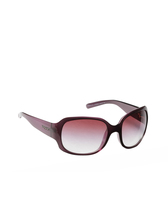glasses: (12, 97, 158, 157)
